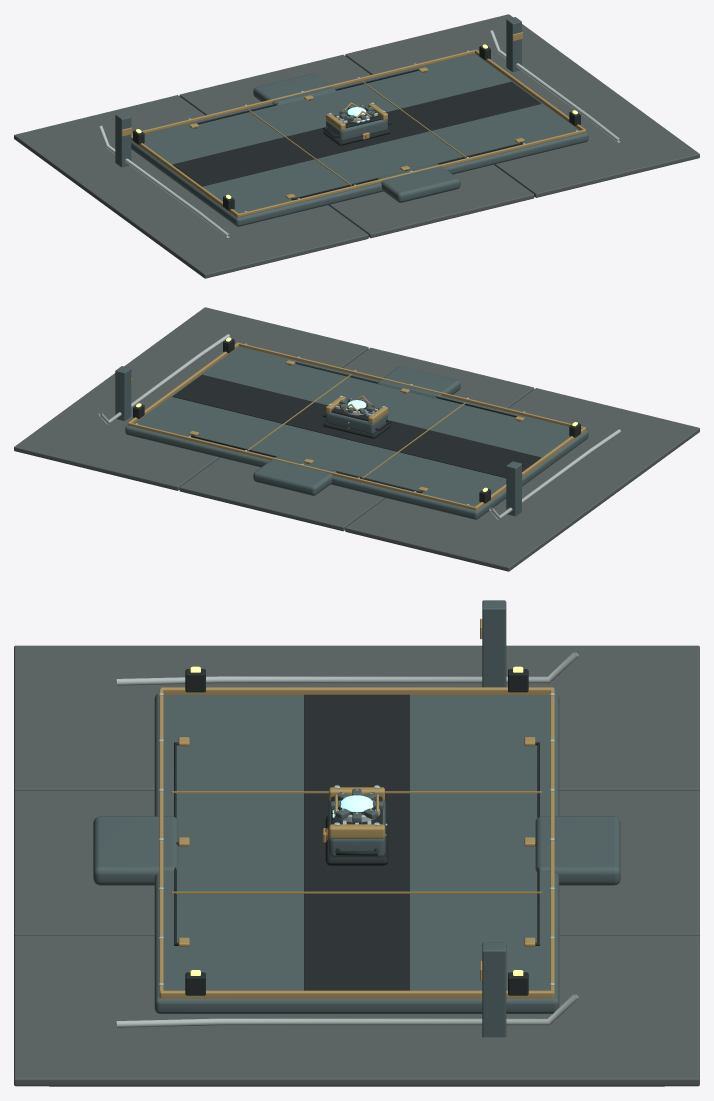
File: equipment-library-v2.glb
3 renders of one model, top to bottom at view 1: azimuth 30°, elevation 25°; view 2: azimuth 150°, elevation 25°; view 3: azimuth 270°, elevation 25°, orthographic. The views are drawn at different scales.
Visible parts, largest first — view 1: Battle platform, Concrete slab, Concrete slab.002, Concrete slab.001, Central inlay, Host docking plinth, Host docking plinth.001, Brass frame, Brass frame.001, Checkpoint bollard, Checkpoint bollard.001, Exposed conduit.001 (+4 smaller); view 2: Battle platform, Concrete slab, Concrete slab.002, Concrete slab.001, Central inlay, Host docking plinth.001, Host docking plinth, Brass frame.001, Brass frame, Checkpoint bollard.001, Checkpoint bollard, Armored case (+4 smaller); view 3: Battle platform, Concrete slab.002, Concrete slab, Concrete slab.001, Central inlay, Host docking plinth, Host docking plinth.001, Exposed conduit.001, Exposed conduit, Side frame.001, Side frame, Checkpoint bollard.001 (+8 smaller).
Part boxes in pixels (x1=…): Battle platform: x1=131, y1=53, x2=588, y2=226; Concrete slab: x1=14, y1=95, x2=368, y2=278; Concrete slab.002: x1=345, y1=14, x2=699, y2=197; Concrete slab.001: x1=179, y1=54, x2=534, y2=238; Central inlay: x1=172, y1=81, x2=541, y2=186; Host docking plinth: x1=377, y1=163, x2=460, y2=202; Host docking plinth.001: x1=253, y1=73, x2=336, y2=105; Brass frame: x1=238, y1=130, x2=585, y2=217; Brass frame.001: x1=131, y1=50, x2=474, y2=135; Checkpoint bollard: x1=115, y1=112, x2=131, y2=167; Checkpoint bollard.001: x1=506, y1=17, x2=521, y2=71; Exposed conduit.001: x1=489, y1=30, x2=620, y2=142; Battle platform: x1=125, y1=346, x2=588, y2=519; Concrete slab: x1=345, y1=388, x2=699, y2=571; Concrete slab.002: x1=14, y1=307, x2=368, y2=490; Concrete slab.001: x1=179, y1=347, x2=534, y2=531; Central inlay: x1=172, y1=374, x2=541, y2=478; Host docking plinth.001: x1=253, y1=456, x2=336, y2=495; Host docking plinth: x1=377, y1=366, x2=460, y2=398; Brass frame.001: x1=128, y1=423, x2=475, y2=510; Brass frame: x1=239, y1=343, x2=583, y2=428; Checkpoint bollard.001: x1=115, y1=366, x2=131, y2=420; Checkpoint bollard: x1=506, y1=461, x2=521, y2=516; Armored case: x1=326, y1=412, x2=387, y2=433; Battle platform: x1=154, y1=693, x2=559, y2=1013; Concrete slab.002: x1=14, y1=935, x2=699, y2=1086; Concrete slab: x1=14, y1=645, x2=699, y2=791; Concrete slab.001: x1=14, y1=790, x2=699, y2=936; Central inlay: x1=304, y1=694, x2=409, y2=990; Host docking plinth: x1=93, y1=816, x2=178, y2=885; Host docking plinth.001: x1=535, y1=816, x2=620, y2=885; Exposed conduit.001: x1=116, y1=993, x2=578, y2=1027; Exposed conduit: x1=116, y1=651, x2=578, y2=685; Side frame.001: x1=159, y1=990, x2=554, y2=998; Side frame: x1=160, y1=687, x2=553, y2=694; Checkpoint bollard.001: x1=482, y1=942, x2=506, y2=1037.
Size of the model in its own units: 14.96 by 1.75 by 10.
